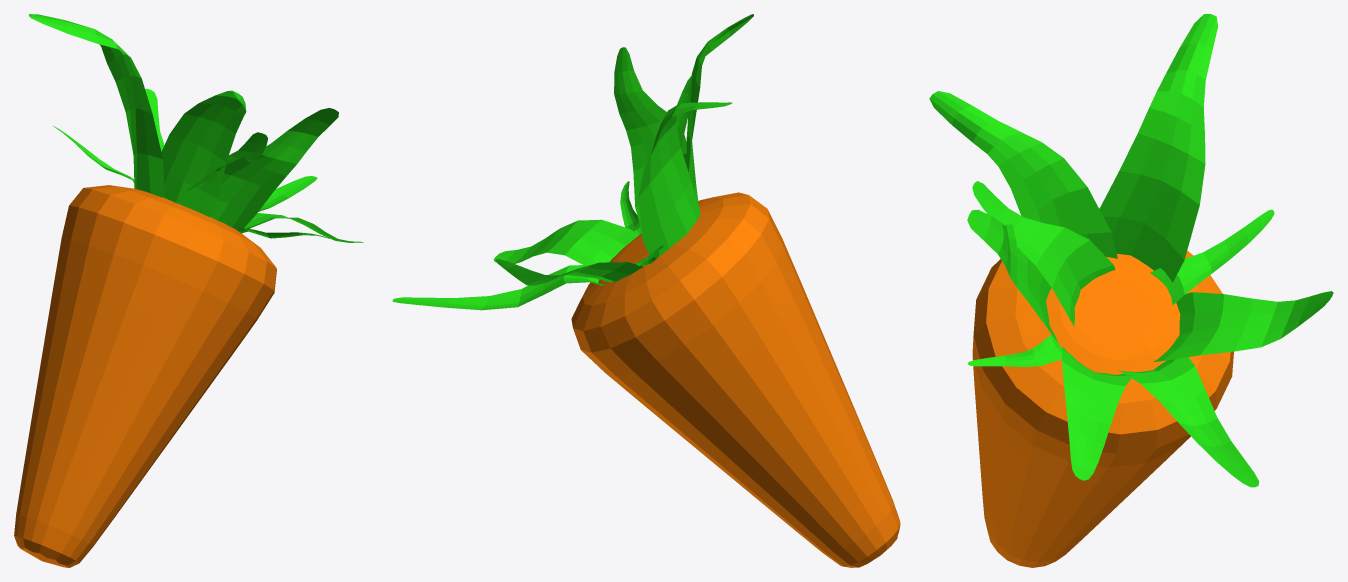
Rendered from Cenoura.fbx.
3 renders of one model, left to right at view 1: azimuth 30°, elevation 25°; view 2: azimuth 150°, elevation 25°; view 3: azimuth 270°, elevation 25°, orthographic. The views are drawn at different scales.
Parts seen in each view (by area): view 1: Cylinder, Plane.006, Plane.003, Plane.002, Plane.008, Plane.004, Plane; view 2: Cylinder, Plane.002, Plane.003, Plane, Plane.004, Plane.001, Plane.006; view 3: Cylinder, Plane.002, Plane.006, Plane.001, Plane.008, Plane.004, Plane, Plane.003, Plane.005, Plane.007.
Part boxes in pixels (left/top/right/bottom): Cylinder: left=14, top=185, right=276, bottom=567; Plane.006: left=161, top=90, right=246, bottom=217; Plane.003: left=184, top=108, right=338, bottom=230; Plane.002: left=28, top=14, right=164, bottom=197; Plane.008: left=226, top=132, right=267, bottom=165; Plane.004: left=258, top=176, right=317, bottom=211; Plane: left=242, top=213, right=363, bottom=242; Cylinder: left=571, top=192, right=900, bottom=567; Plane.002: left=638, top=102, right=732, bottom=256; Plane.003: left=614, top=47, right=688, bottom=228; Plane: left=493, top=219, right=638, bottom=266; Plane.004: left=392, top=265, right=605, bottom=310; Plane.001: left=495, top=259, right=643, bottom=285; Plane.006: left=686, top=14, right=753, bottom=204; Cylinder: left=972, top=251, right=1233, bottom=567; Plane.002: left=1099, top=14, right=1217, bottom=282; Plane.006: left=929, top=91, right=1117, bottom=258; Plane.001: left=1153, top=291, right=1333, bottom=361; Plane.008: left=972, top=181, right=1115, bottom=326; Plane.004: left=1118, top=357, right=1259, bottom=487; Plane: left=1062, top=347, right=1133, bottom=480; Plane.003: left=967, top=209, right=1058, bottom=343; Plane.005: left=1150, top=209, right=1274, bottom=304; Plane.007: left=968, top=334, right=1073, bottom=366.
Bounding box in the file's own units: 343 × 407 × 259.
